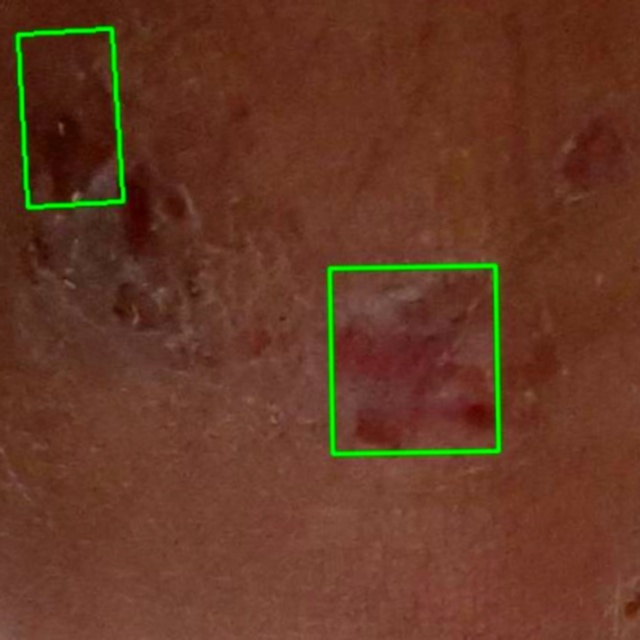Contact Dermatitis: (329, 265, 498, 453), (17, 29, 122, 207)
